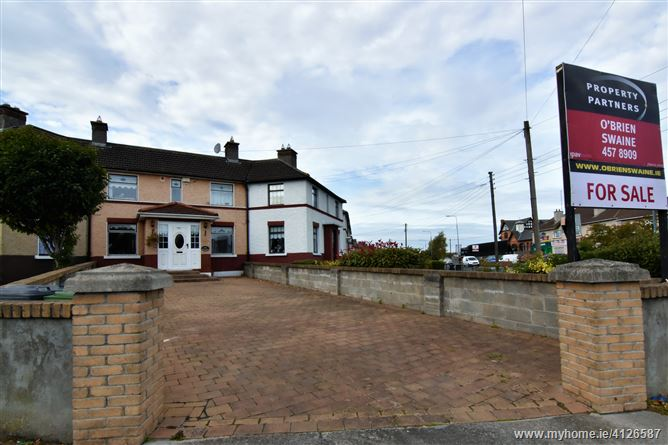property sign: (534, 52, 668, 219)
